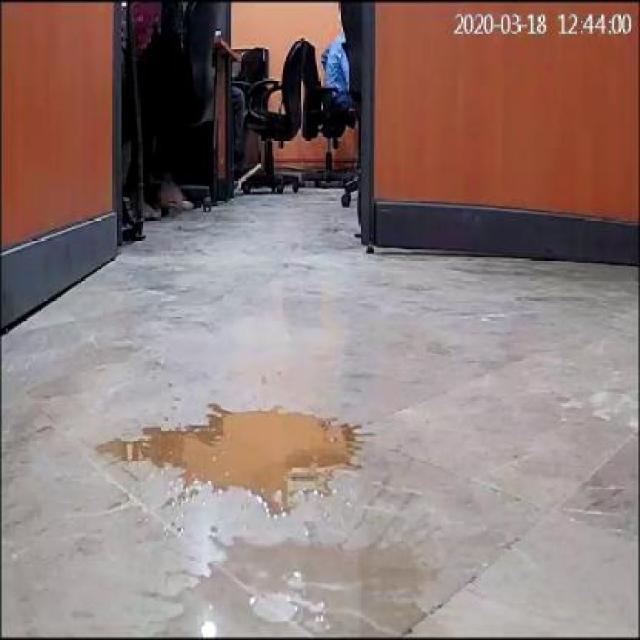spill: (95, 394, 377, 508), (148, 537, 434, 634)
